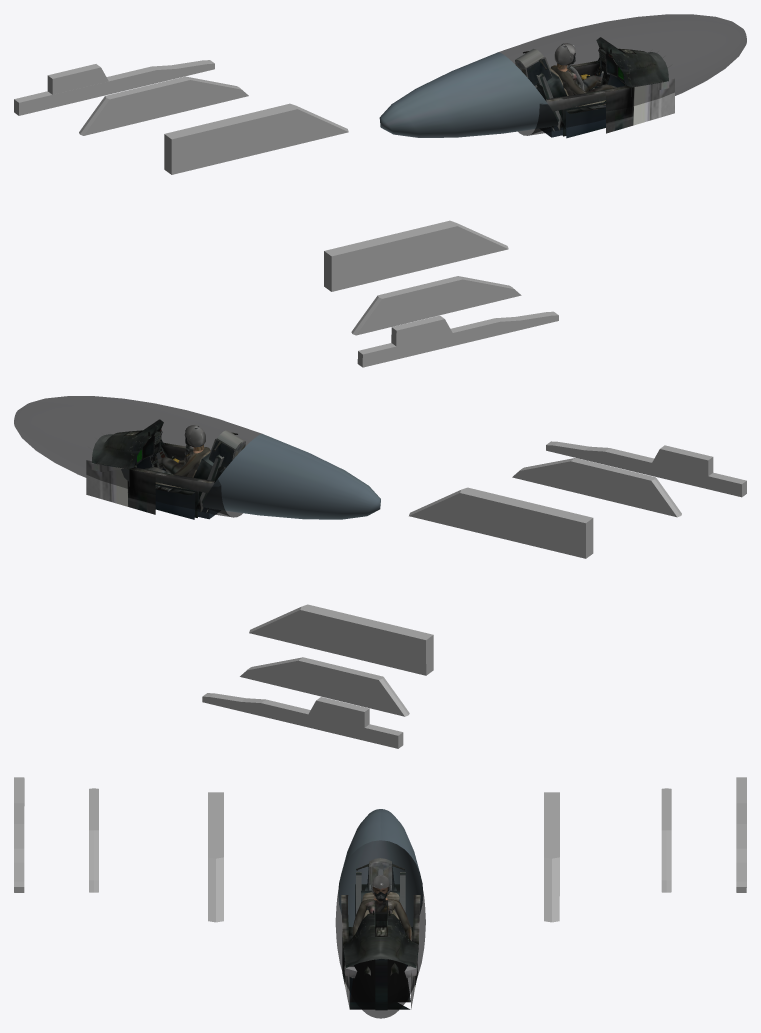
3 views of the same model, one above another, from view 1: azimuth 30°, elevation 25°; view 2: azimuth 150°, elevation 25°; view 3: azimuth 270°, elevation 25° (orthographic). The views are drawn at different scales.
Parts seen in each view (by area): view 1: 立方体.006, 球, body.001; view 2: 立方体.006, 球, body.001; view 3: 球, body.001, 立方体.006.
Part boxes in pixels (left/top/right/bottom): 立方体.006: left=14, top=60, right=558, bottom=367; 球: left=379, top=14, right=746, bottom=137; body.001: left=515, top=37, right=674, bottom=138; 立方体.006: left=202, top=441, right=746, bottom=748; 球: left=14, top=396, right=380, bottom=519; body.001: left=86, top=419, right=245, bottom=519; 球: left=335, top=809, right=425, bottom=1018; body.001: left=341, top=858, right=420, bottom=1009; 立方体.006: left=14, top=777, right=746, bottom=922.
Bounding box in the file's own units: 8.55 × 1.76 × 9.26.
10 materials, 1 textured.
